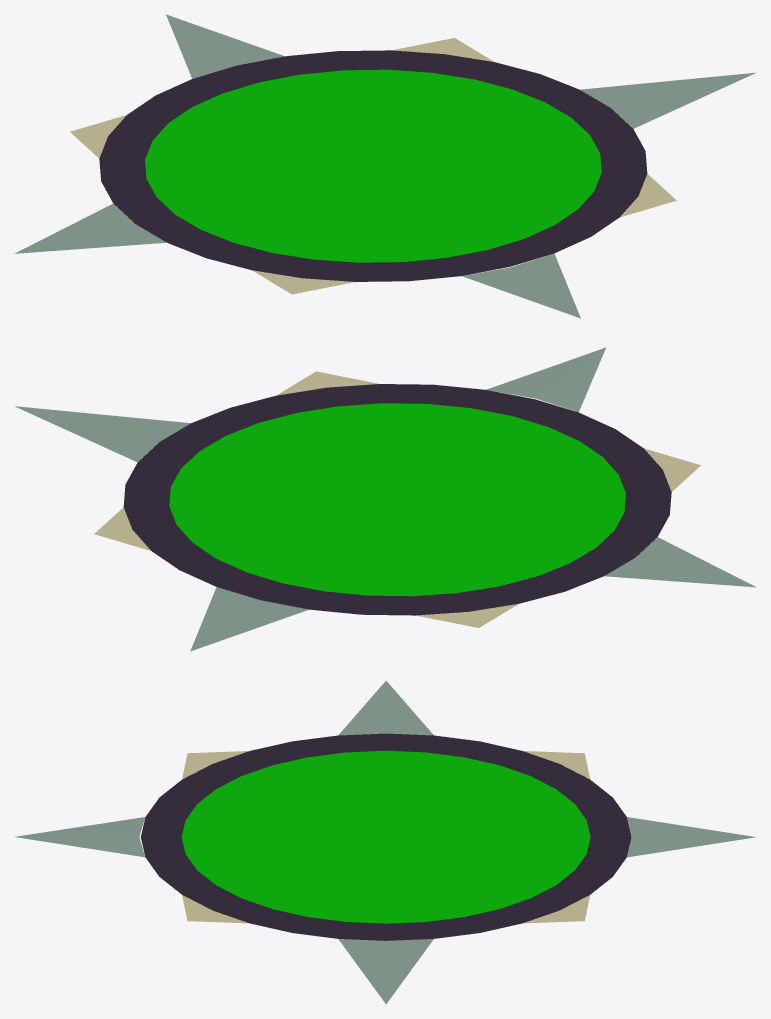
The model's file is Good Circle.fbx.
The picture shows the model from 3 angles, top to bottom: view 1: azimuth 30°, elevation 25°; view 2: azimuth 150°, elevation 25°; view 3: azimuth 270°, elevation 25°; orthographic projection. The views are drawn at different scales.
Visible parts, largest first — view 1: Circle.002, Circle; view 2: Circle.002, Circle; view 3: Circle.002, Circle.
Boxes of the visible parts, x1=… form: Circle.002: x1=99, y1=50, x2=647, y2=281; Circle: x1=14, y1=14, x2=755, y2=318; Circle.002: x1=123, y1=384, x2=671, y2=615; Circle: x1=14, y1=347, x2=755, y2=651; Circle.002: x1=140, y1=733, x2=631, y2=940; Circle: x1=15, y1=680, x2=756, y2=1004.
Size of the model in its own units: 30584 by 2.81 by 29636.
